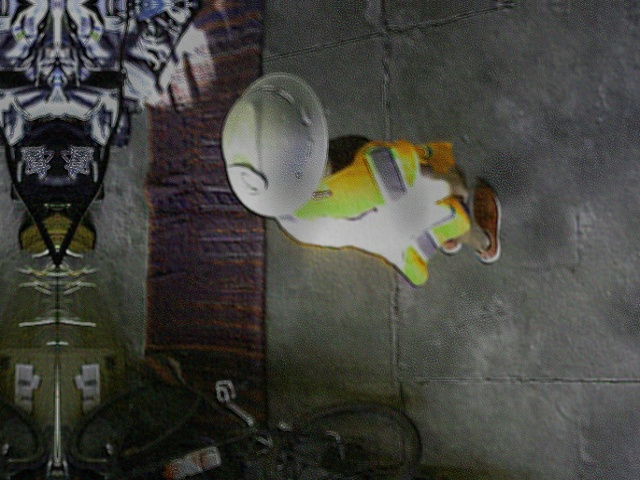two: (226, 166, 265, 195)
